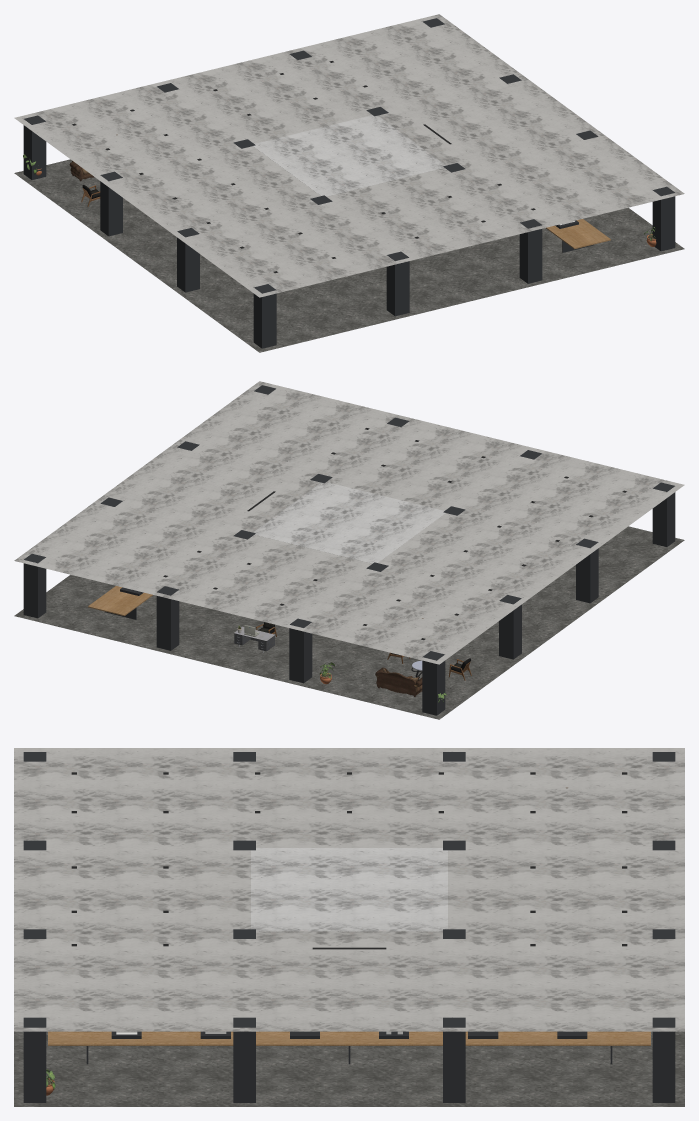
File: studio.glb
3 views of the same model, one above another, from view 1: azimuth 30°, elevation 25°; view 2: azimuth 150°, elevation 25°; view 3: azimuth 270°, elevation 25° (orthographic). The views are drawn at different scales.
Visible parts, largest first — view 1: studio; view 2: studio; view 3: studio.
Part boxes in pixels (bbox=[...]): studio: bbox=[14, 14, 684, 352]; studio: bbox=[14, 381, 684, 719]; studio: bbox=[14, 748, 684, 1106].
Bounding box in the file's own units: 25.6 × 3.18 × 25.6.
Materials: 33 (26 with a texture image).
